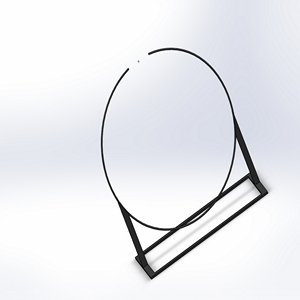circle: (98, 46, 271, 280)
